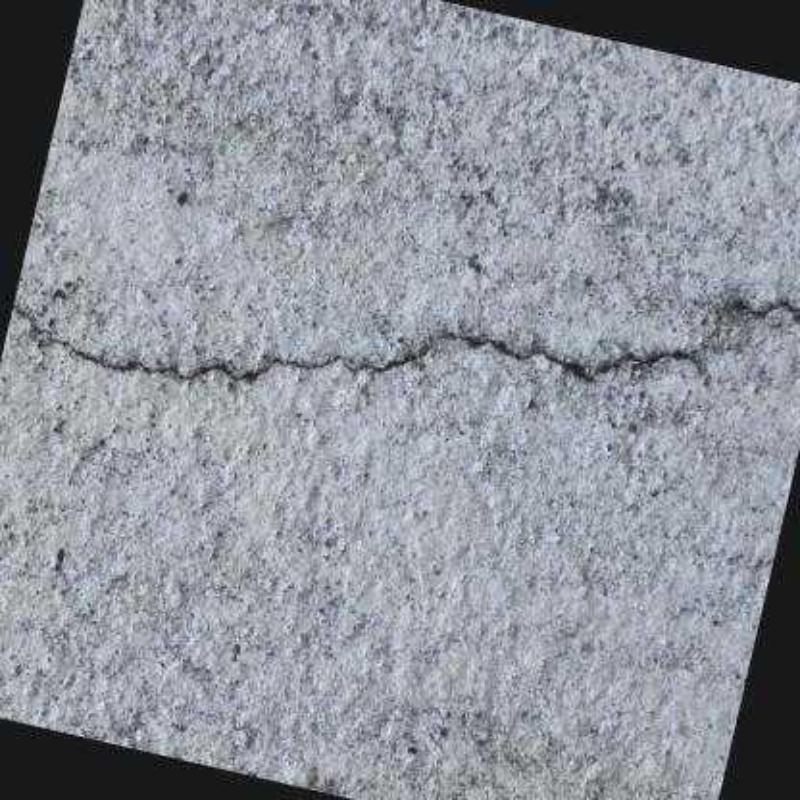pothole: (12, 300, 800, 381)
